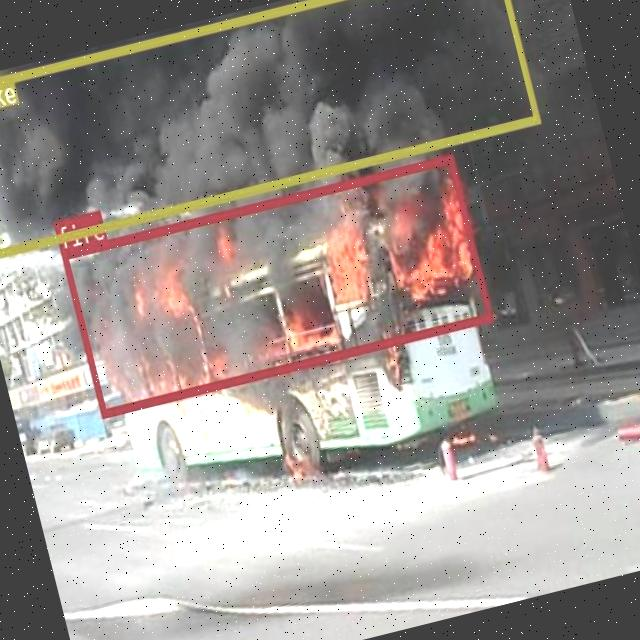fire: (59, 152, 492, 416)
smoke: (0, 0, 539, 257)
